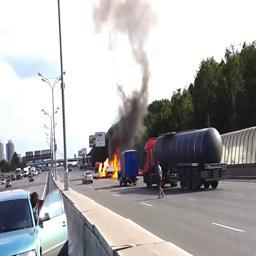fire: (98, 153, 121, 178)
